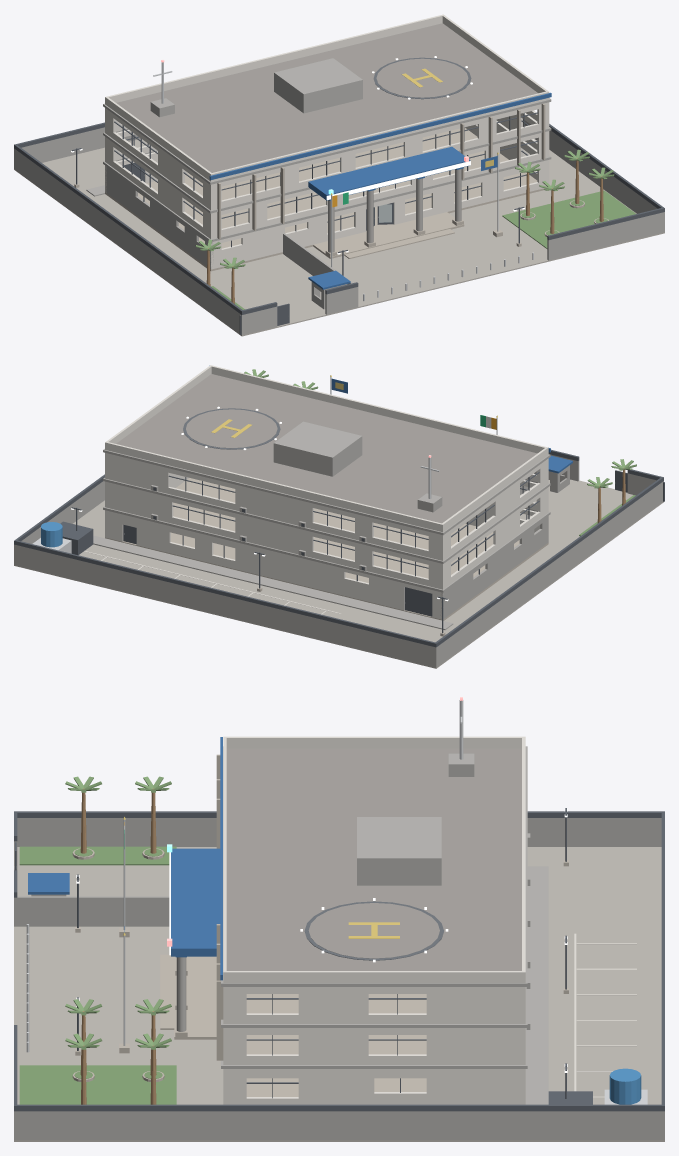
Rendered from SM_Commissariat_Central.fbx.
The picture shows the model from 3 angles, top to bottom: view 1: azimuth 30°, elevation 25°; view 2: azimuth 150°, elevation 25°; view 3: azimuth 270°, elevation 25°; orthographic projection. The views are drawn at different scales.
Visible parts, largest first — view 1: Comm_Ext_Site, Comm_Ext_Roof, Comm_Ext_Walls, Comm_Ext_Details; view 2: Comm_Ext_Roof, Comm_Ext_Site, Comm_Ext_Walls, Comm_Ext_Details, Gate_Garage_Cellulaire; view 3: Comm_Ext_Site, Comm_Ext_Roof, Comm_Ext_Walls, Comm_Ext_Details.
Part boxes in pixels (left/top/right/bottom): Comm_Ext_Site: left=14, top=119, right=664, bottom=336; Comm_Ext_Roof: left=105, top=14, right=551, bottom=181; Comm_Ext_Walls: left=103, top=98, right=551, bottom=269; Comm_Ext_Details: left=14, top=103, right=664, bottom=314; Comm_Ext_Roof: left=105, top=365, right=550, bottom=532; Comm_Ext_Site: left=14, top=454, right=663, bottom=668; Comm_Ext_Walls: left=103, top=449, right=550, bottom=619; Comm_Ext_Details: left=14, top=369, right=663, bottom=647; Gate_Garage_Cellulaire: left=404, top=587, right=432, bottom=616; Comm_Ext_Site: left=14, top=818, right=664, bottom=1141; Comm_Ext_Roof: left=220, top=697, right=525, bottom=982; Comm_Ext_Walls: left=221, top=746, right=530, bottom=1104; Comm_Ext_Details: left=14, top=754, right=664, bottom=1111.
Bounding box in the file's own units: 6020 × 1932 × 5600.
